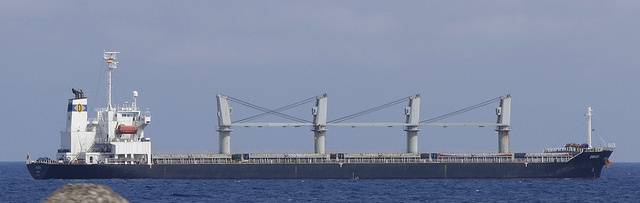bulk carrier: (27, 51, 613, 180)
